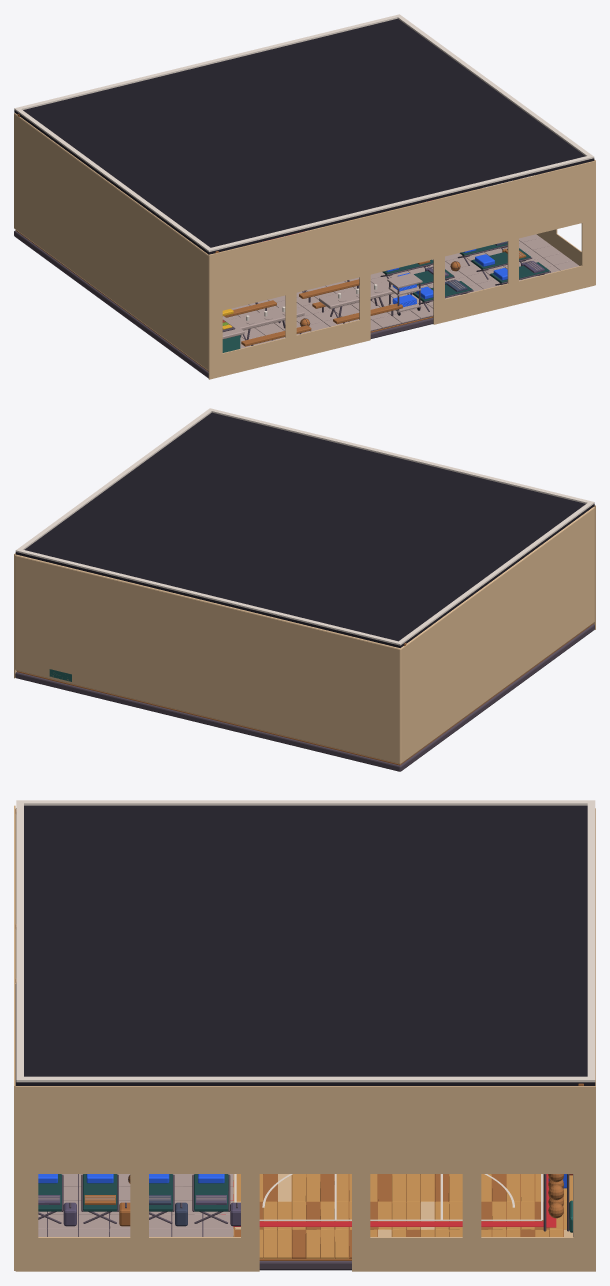
Rendered from bld.gym.glb.
The picture shows the model from 3 angles, top to bottom: view 1: azimuth 30°, elevation 25°; view 2: azimuth 150°, elevation 25°; view 3: azimuth 270°, elevation 25°; orthographic projection. The views are drawn at different scales.
Visible parts, largest first — view 1: roof, interior; view 2: roof, interior; view 3: roof, interior.
Boxes of the visible parts, box(x1,y1,x2,y2) form: roof: box(14, 14, 595, 379); interior: box(14, 113, 578, 378); roof: box(14, 408, 595, 678); interior: box(15, 506, 594, 771); roof: box(14, 800, 595, 1271); interior: box(15, 808, 595, 1270).
Bounding box in the file's own units: 16.04 × 5.07 × 14.04.
